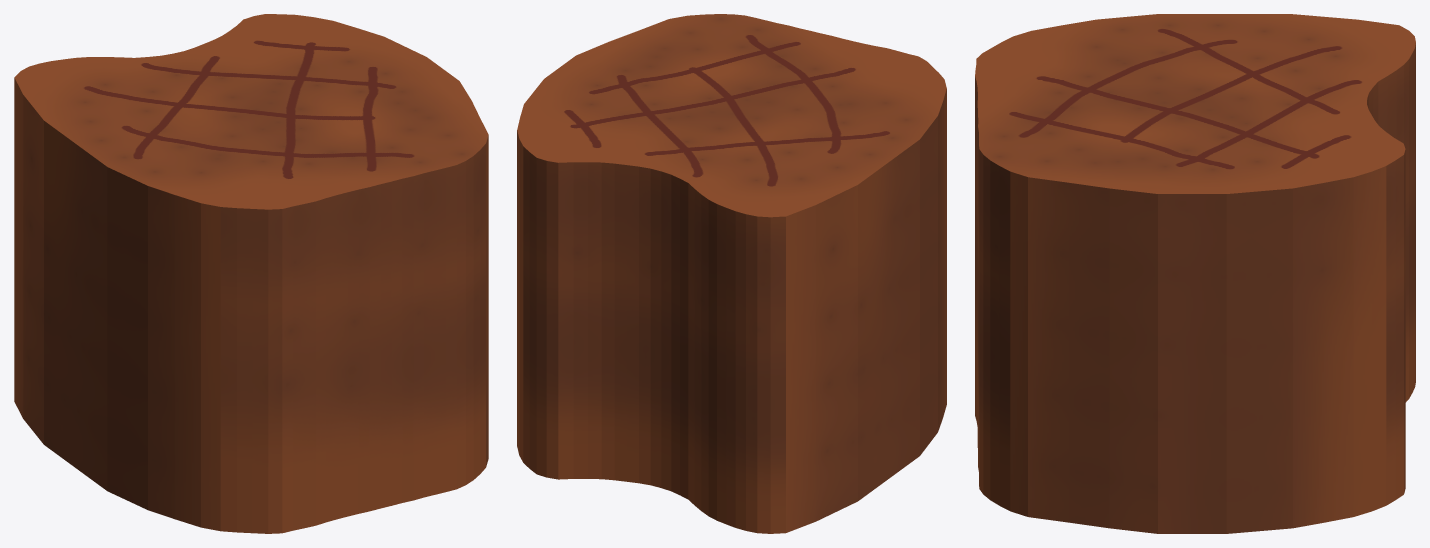
File: cookedMeat.fbx
3 views of the same model, side by side, from view 1: azimuth 30°, elevation 25°; view 2: azimuth 150°, elevation 25°; view 3: azimuth 270°, elevation 25° (orthographic). The views are drawn at different scales.
Visible parts, largest first — view 1: Cube; view 2: Cube; view 3: Cube.
Part boxes in pixels (x1,y1,x2,y2): Cube: [14, 14, 488, 533]; Cube: [517, 14, 946, 533]; Cube: [975, 14, 1415, 533].
Size of the model in its own units: 200 by 176 by 207.
Materials: 1 (1 with a texture image).
